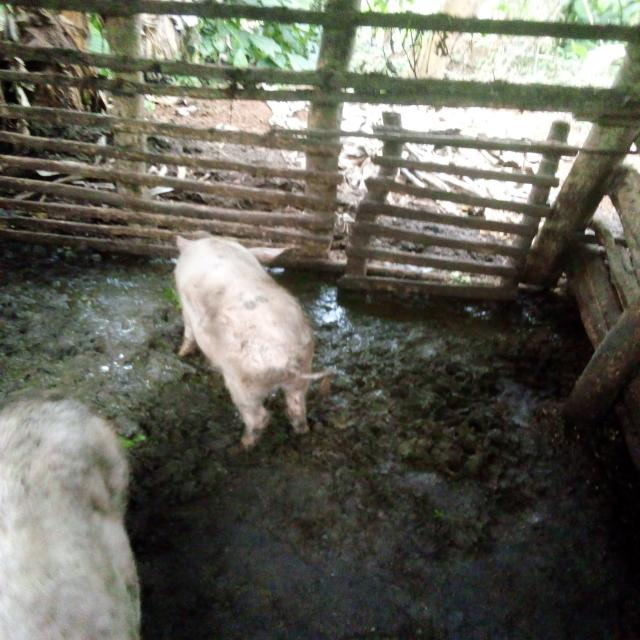pig: (129, 189, 388, 492)
